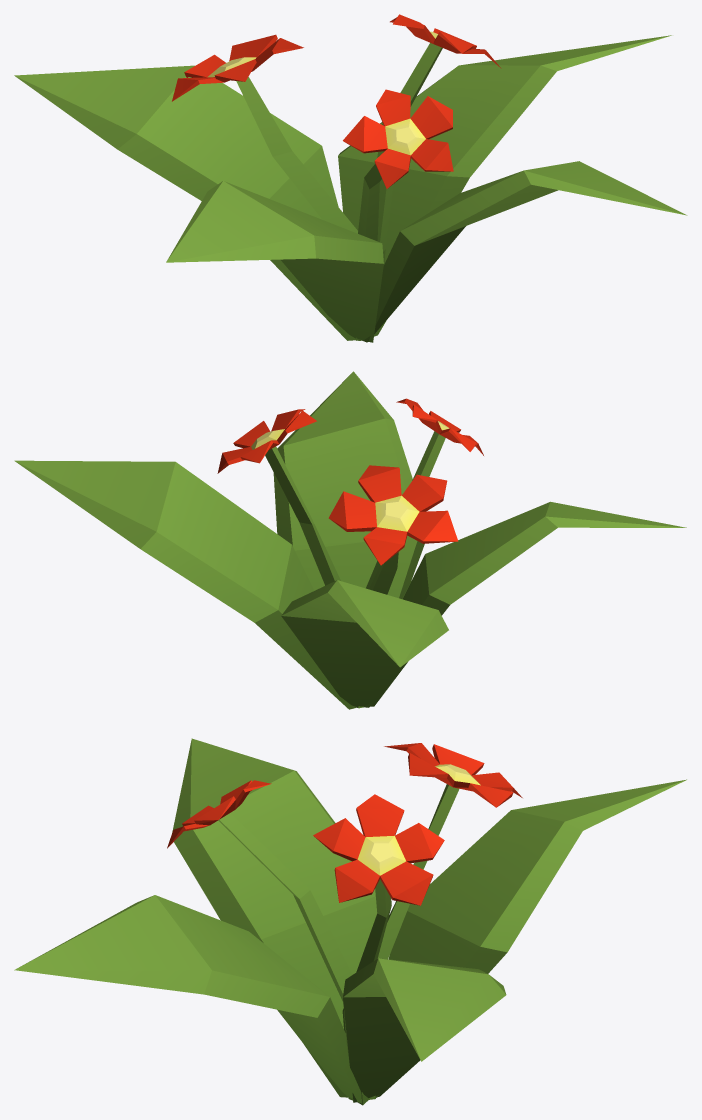
The model's file is Flower1.fbx.
The picture shows the model from 3 angles, top to bottom: view 1: azimuth 30°, elevation 25°; view 2: azimuth 150°, elevation 25°; view 3: azimuth 270°, elevation 25°; orthographic projection. The views are drawn at different scales.
Visible parts, largest first — view 1: Flower_bush_red; view 2: Flower_bush_red; view 3: Flower_bush_red.
Part boxes in pixels (x1,y1,x2,y2): Flower_bush_red: (14,14,687,342); Flower_bush_red: (14,371,686,709); Flower_bush_red: (14,738,686,1105).
Size of the model in its own units: 135 by 62.64 by 119.
Materials: 1 (1 with a texture image).
